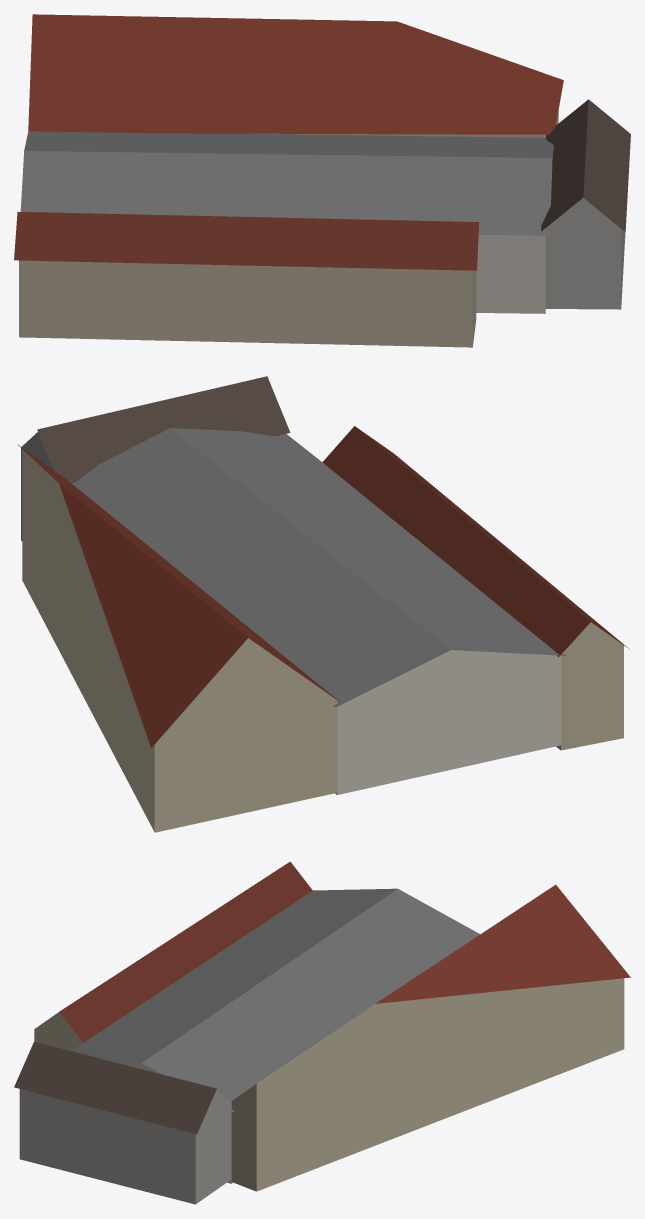
3 renders of one model, top to bottom at view 1: azimuth 30°, elevation 25°; view 2: azimuth 150°, elevation 25°; view 3: azimuth 270°, elevation 25°, orthographic. The views are drawn at different scales.
Parts seen in each view (by area): view 1: buildings; view 2: buildings; view 3: buildings.
Boxes of the visible parts, <box> form: buildings: <box>14,14,630,347</box>; buildings: <box>17,376,629,832</box>; buildings: <box>14,861,630,1204</box>.
Bounding box in the file's own units: 45.06 × 12.1 × 44.98.
